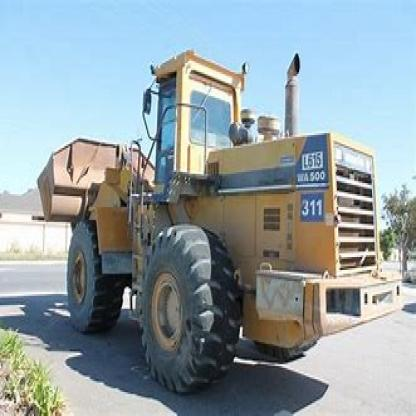bull_dozer/loader/grader: (29, 37, 408, 396)
